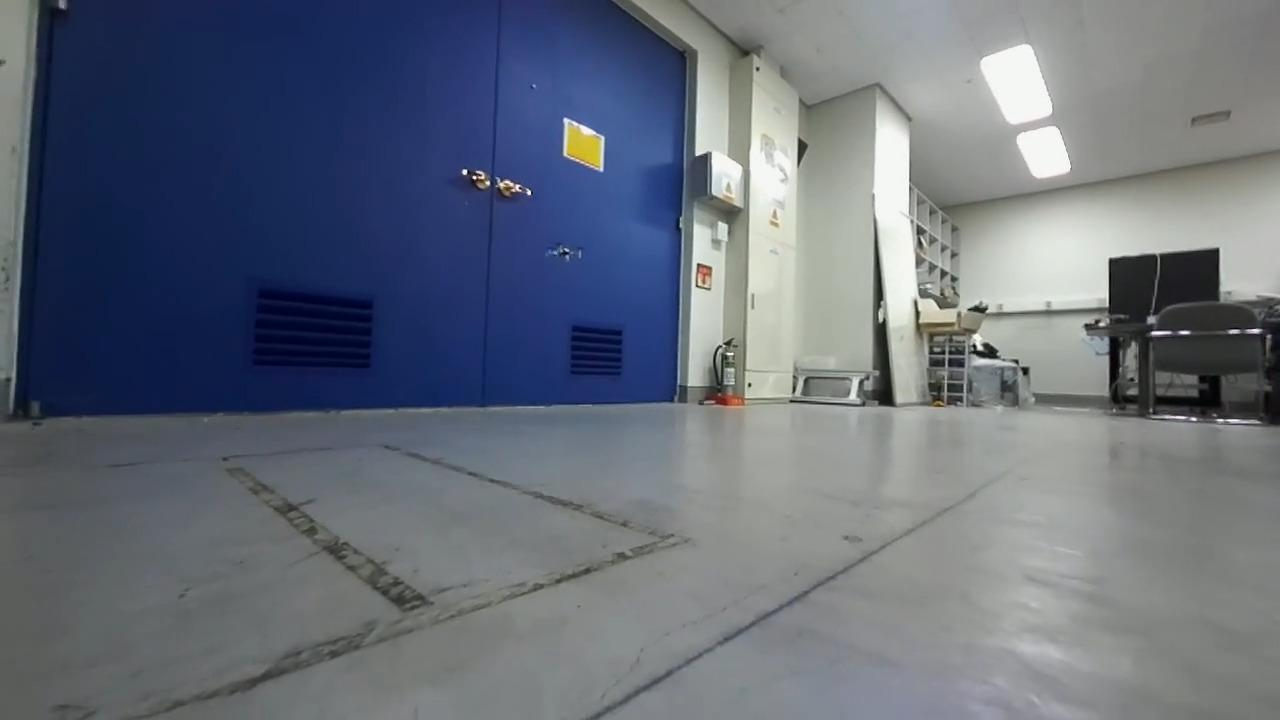crazyflie: (538, 239, 590, 267)
